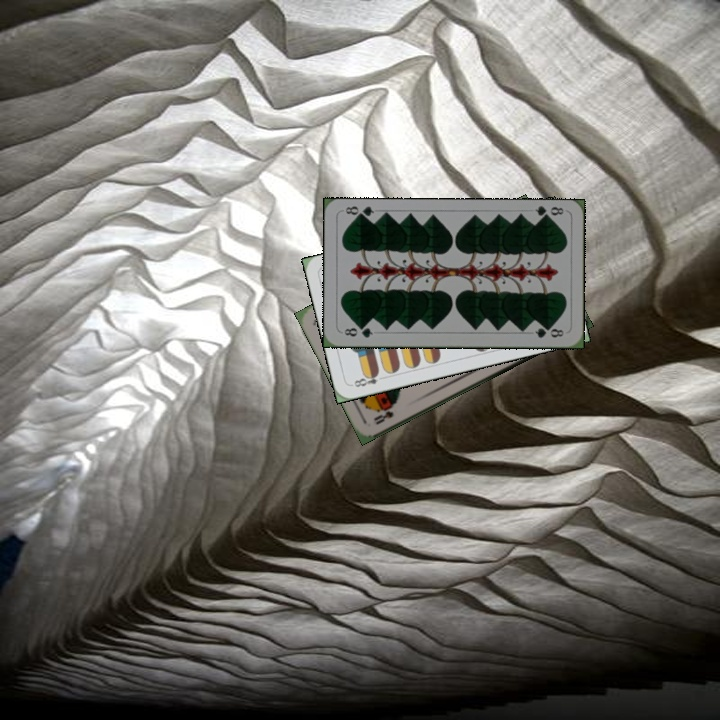E8: (348, 368, 388, 390)
G8: (531, 203, 566, 222), (340, 323, 375, 340)
SO: (370, 402, 397, 427)
